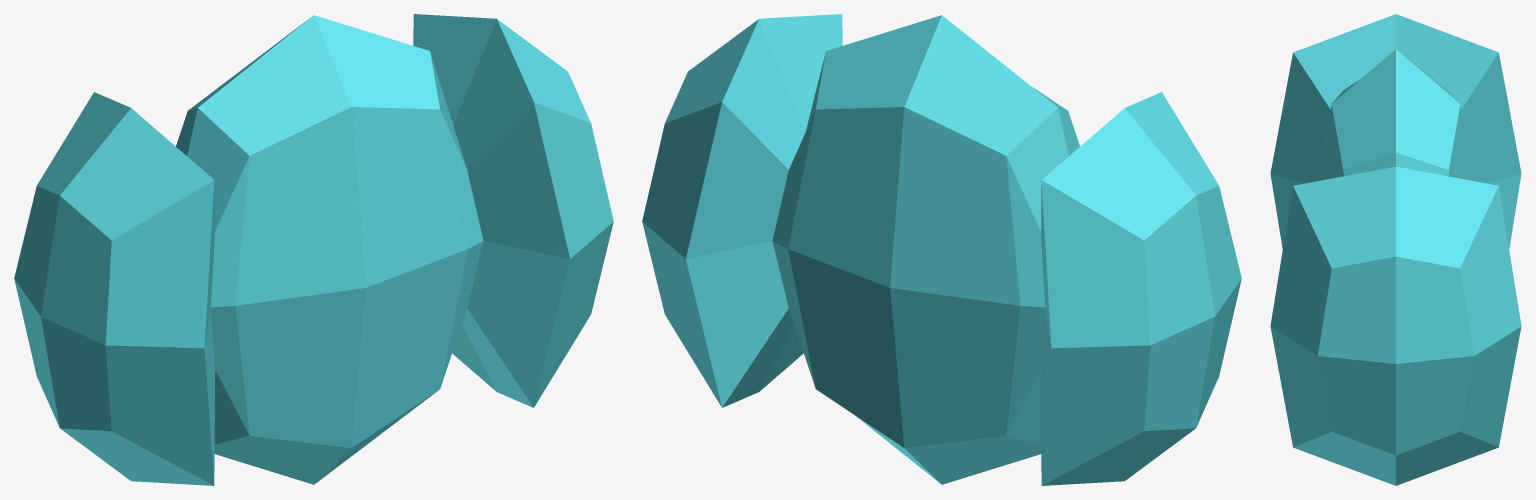
The model's file is fairy.fbx.
3 renders of one model, left to right at view 1: azimuth 30°, elevation 25°; view 2: azimuth 150°, elevation 25°; view 3: azimuth 270°, elevation 25°, orthographic. The views are drawn at different scales.
Parts seen in each view (by area): view 1: fairy; view 2: fairy; view 3: fairy.
Part boxes in pixels (box(x1,y1,x2,y2)): fairy: box(14, 14, 613, 485); fairy: box(642, 14, 1241, 485); fairy: box(1270, 14, 1521, 485).
Bounding box in the file's own units: 573 × 471 × 267.
